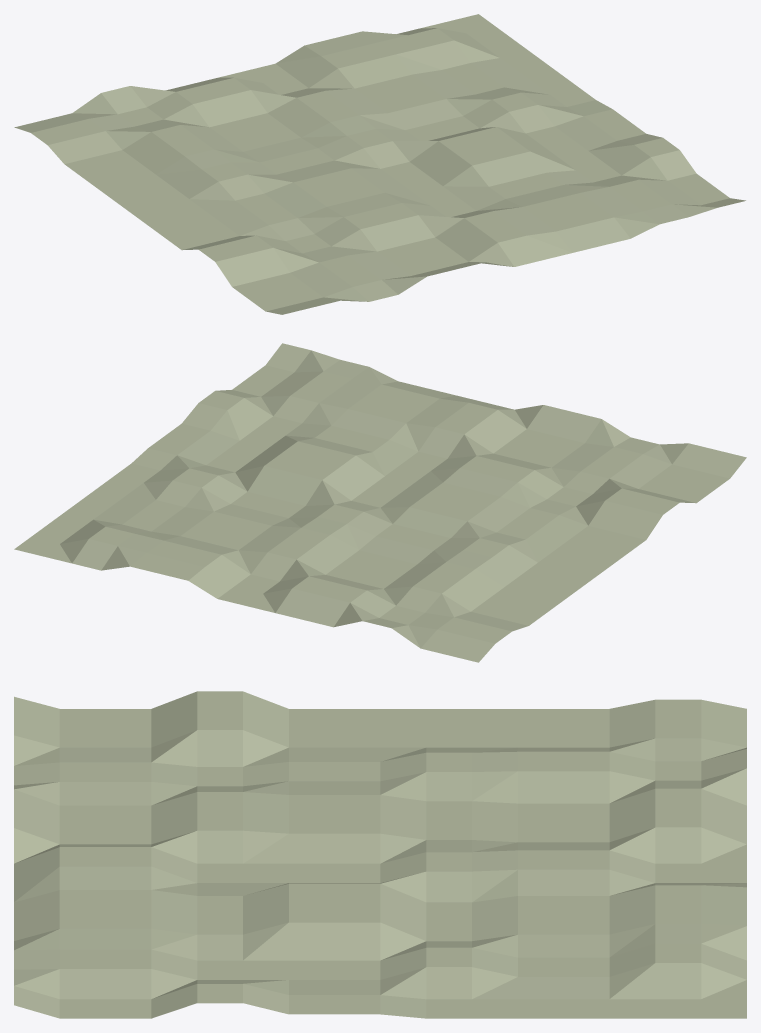
3 renders of one model, top to bottom at view 1: azimuth 30°, elevation 25°; view 2: azimuth 150°, elevation 25°; view 3: azimuth 270°, elevation 25°, orthographic. The views are drawn at different scales.
Size of the model in its own units: 32 by 0.9 by 32.
